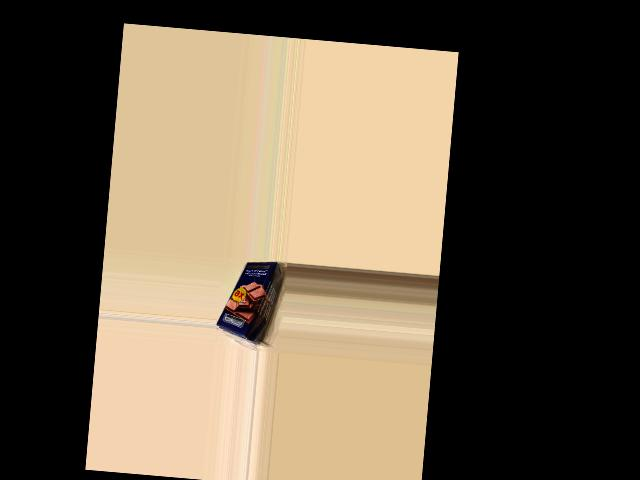chocolate: (214, 257, 282, 340)
